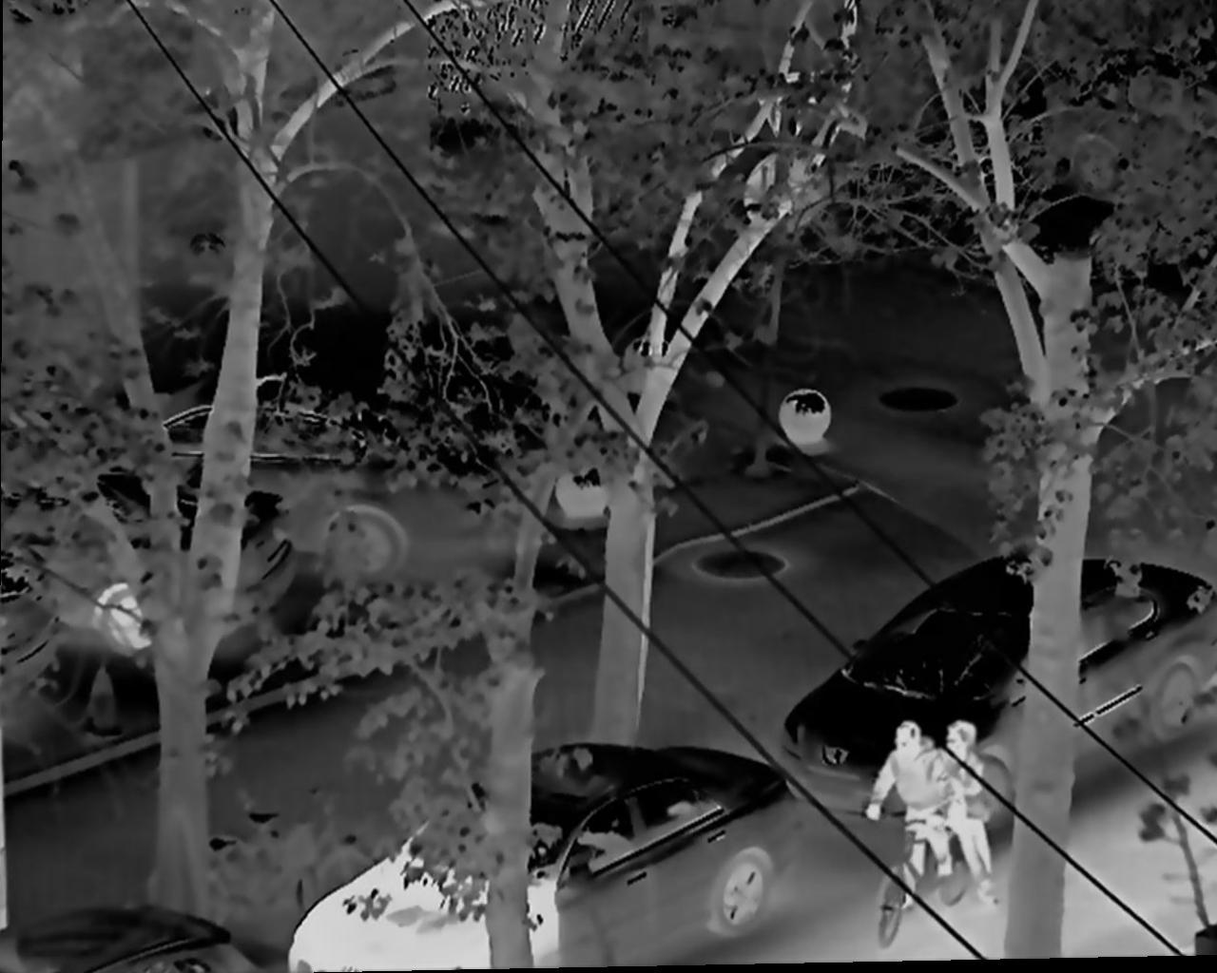person: (862, 721, 952, 882), (943, 723, 1003, 908)
